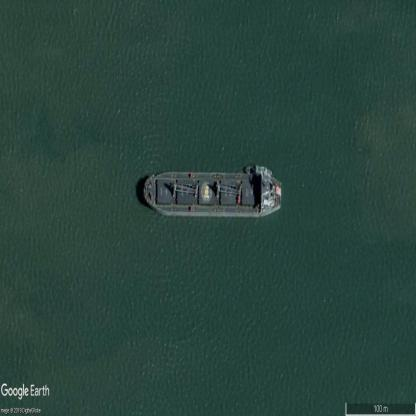ship: (143, 169, 282, 216)
